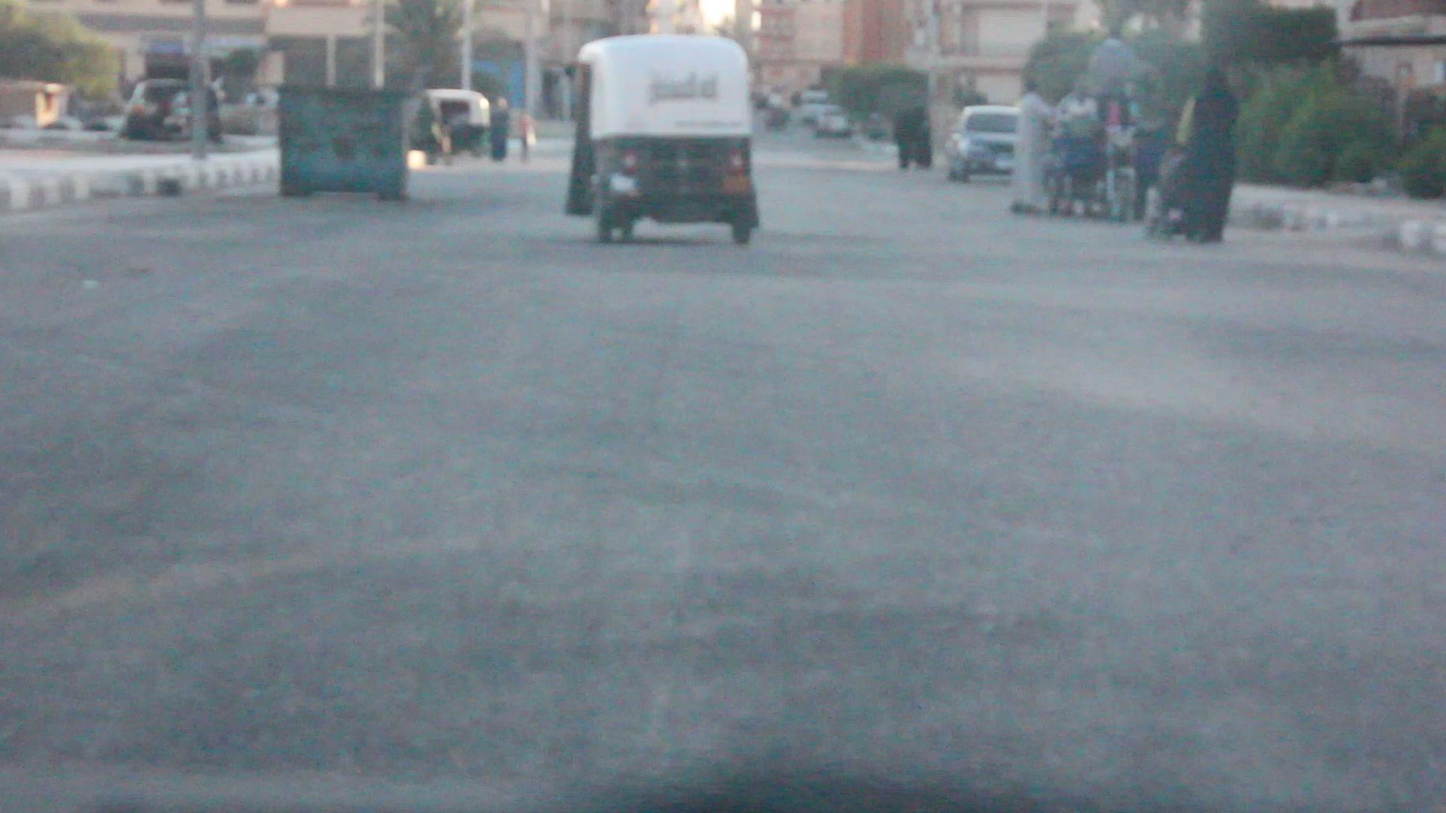Bump: (15, 217, 1435, 286)
